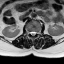CCS_normal: (32, 28, 34, 38)
LFS_normal: (36, 28, 38, 36)
LLS_normal: (34, 29, 36, 36)
RFS_normal: (27, 28, 30, 35)
RLS_normal: (29, 29, 32, 36)
